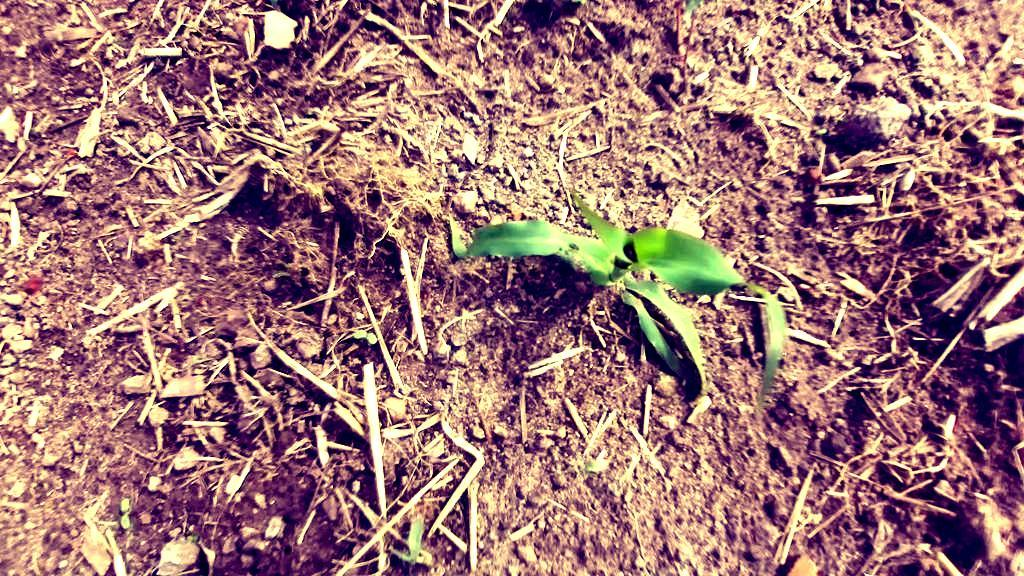BroWeed: (387, 507, 429, 564), (171, 346, 215, 374), (351, 326, 379, 346), (583, 459, 609, 473), (120, 499, 130, 530), (273, 258, 291, 272), (270, 270, 291, 280), (812, 126, 828, 138), (186, 534, 198, 542)
Maize: (427, 120, 822, 439)
